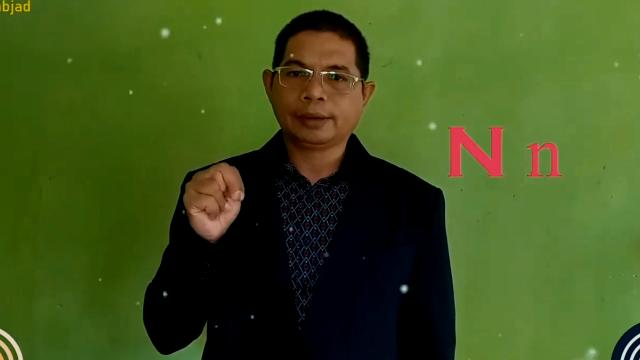N: (182, 161, 246, 231)
